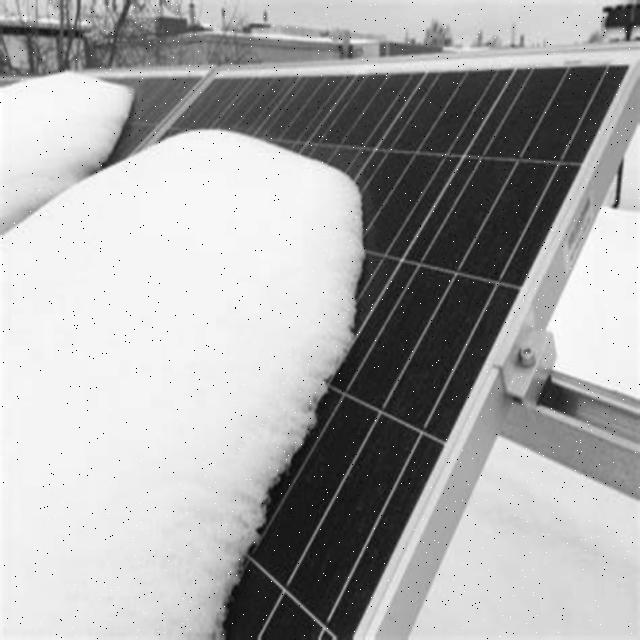snow covered: (236, 80, 534, 359)
